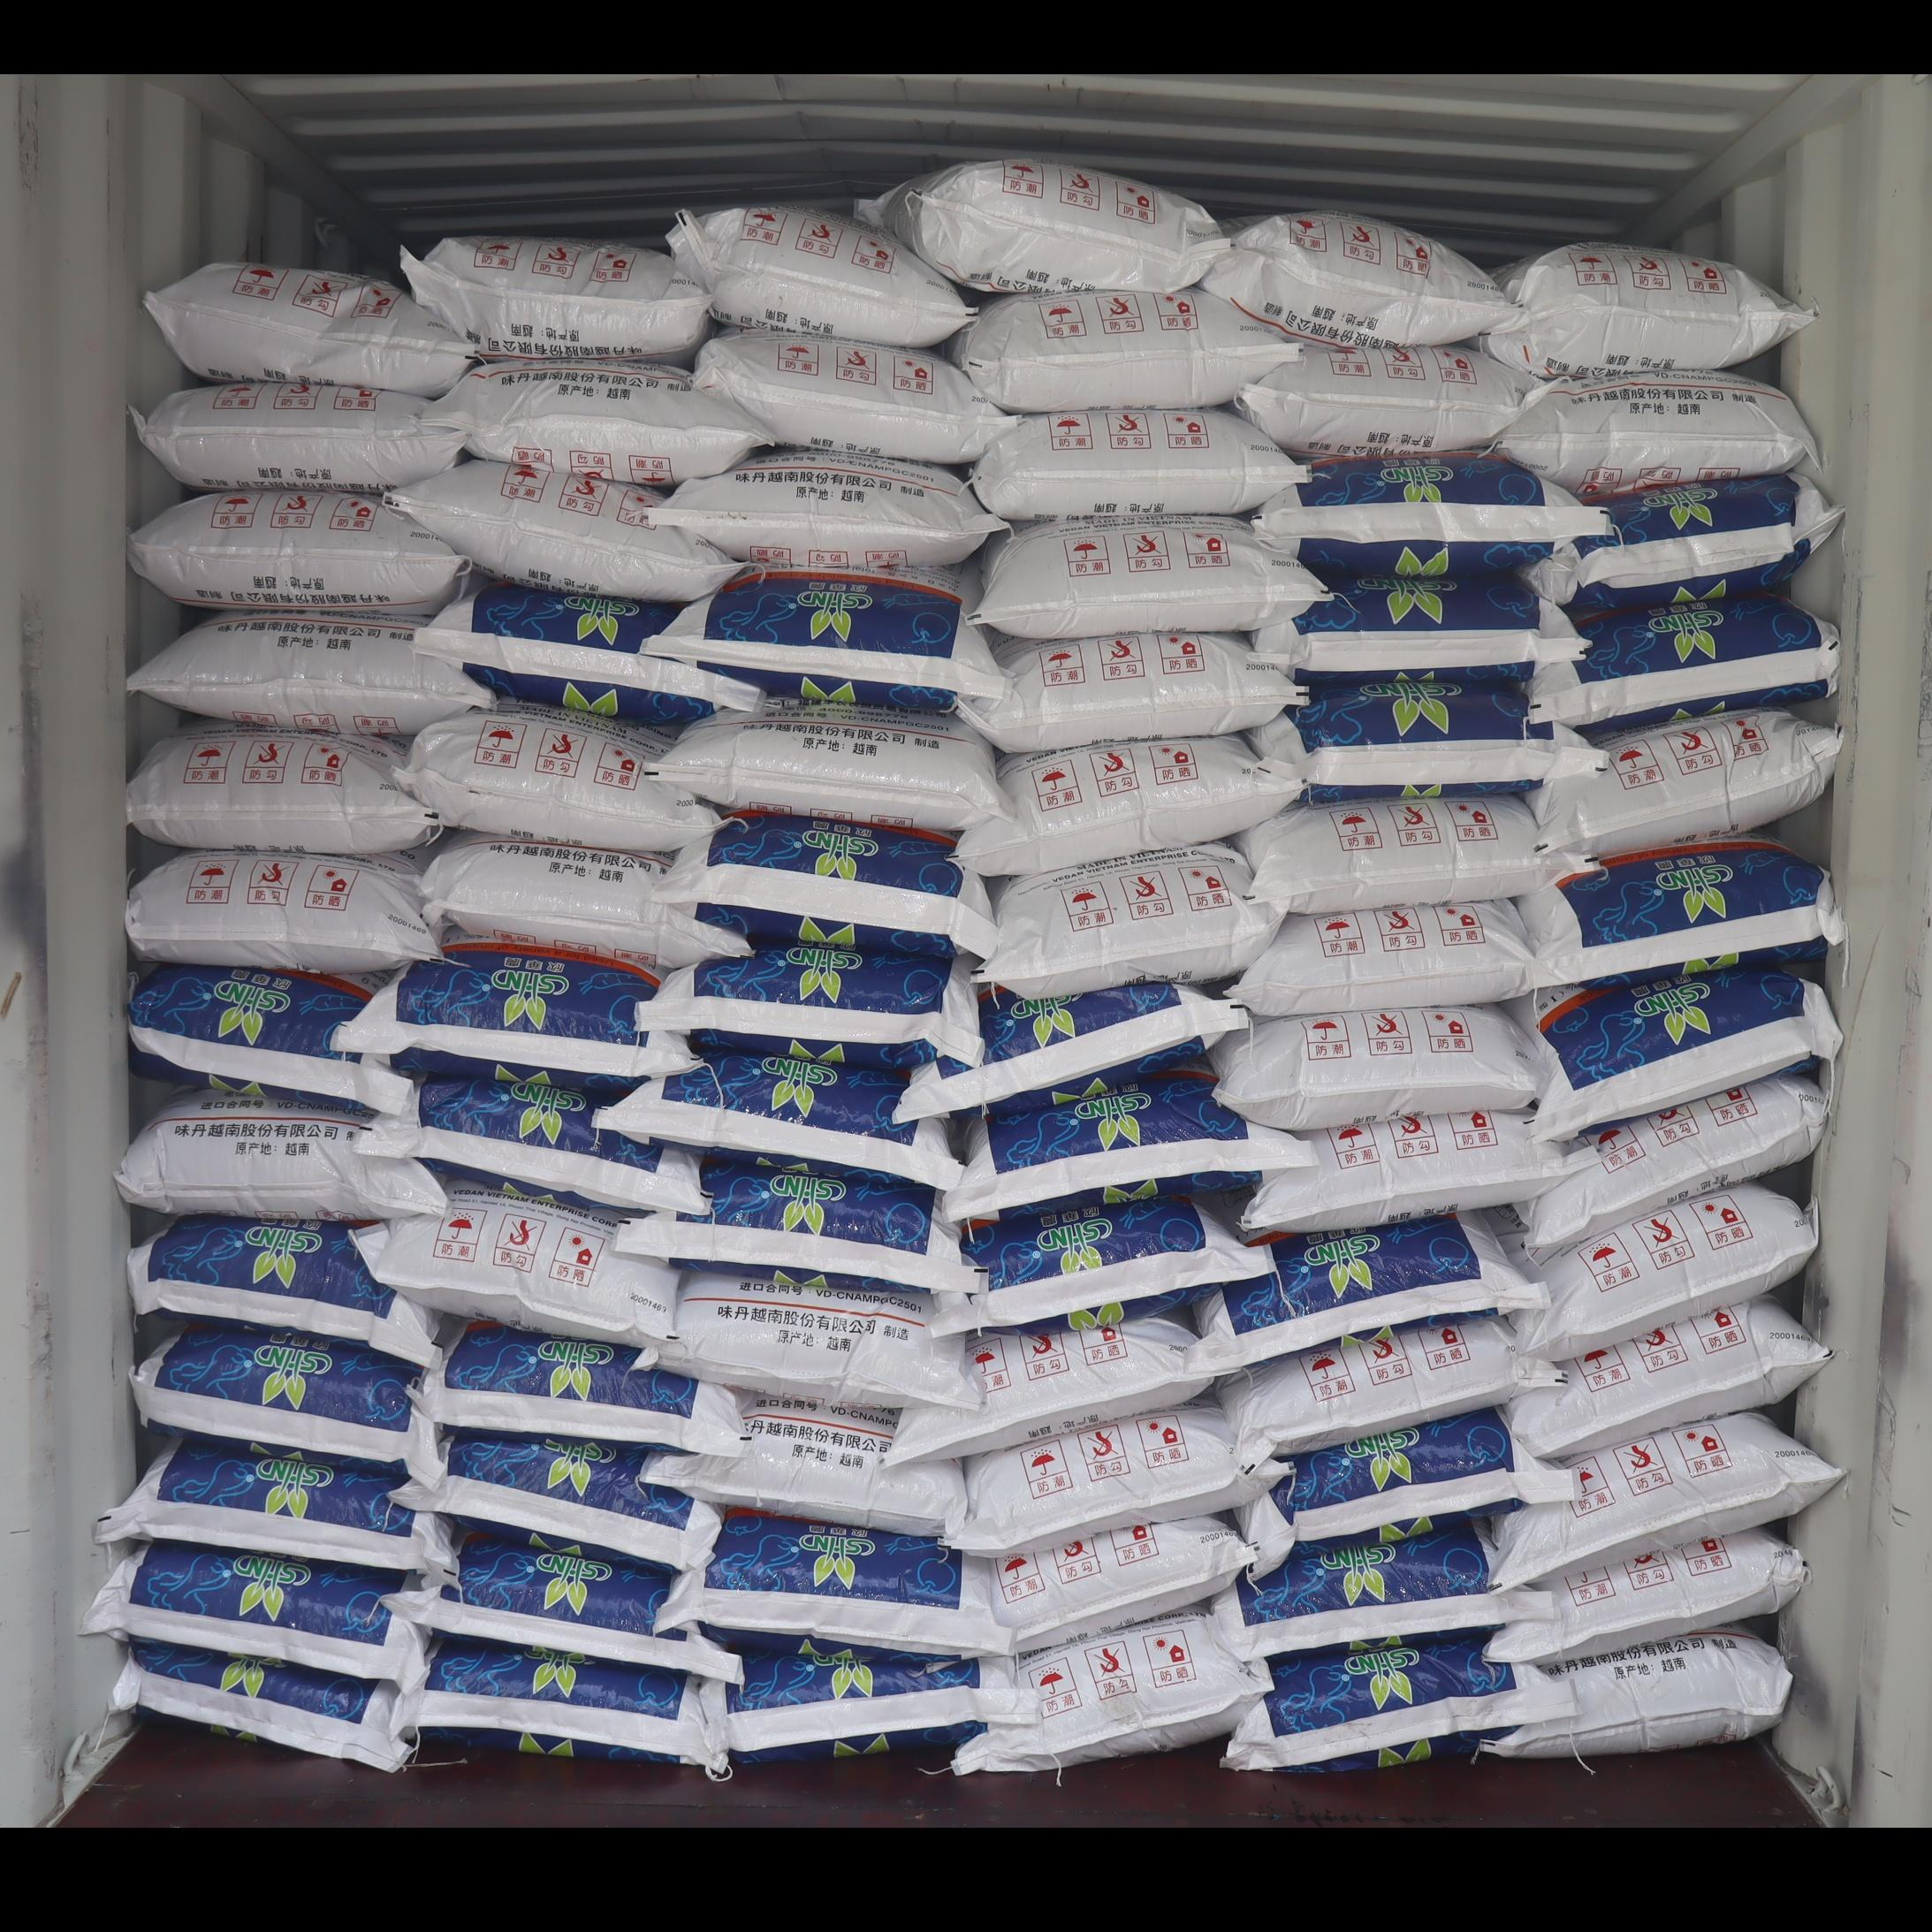sack: (1493, 1412, 1842, 1587), (1187, 1210, 1548, 1375), (1240, 1408, 1580, 1580), (1511, 970, 1842, 1141), (1518, 1072, 1828, 1254), (945, 1072, 1315, 1221), (656, 1509, 1014, 1661), (334, 941, 688, 1093), (1513, 1184, 1817, 1361), (352, 1182, 676, 1345), (396, 1532, 741, 1683), (1214, 1316, 1562, 1465), (950, 1399, 1286, 1553), (651, 810, 996, 959), (1507, 1299, 1829, 1458), (648, 564, 1005, 708), (410, 580, 761, 725), (596, 1053, 964, 1191), (954, 1612, 1265, 1773), (863, 157, 1231, 294), (619, 1155, 980, 1293), (386, 462, 736, 603), (96, 1437, 453, 1575), (1516, 837, 1844, 987), (895, 982, 1247, 1122), (648, 697, 1012, 832), (1253, 453, 1610, 589), (886, 1318, 1212, 1465), (957, 736, 1300, 874), (421, 832, 750, 975), (1532, 708, 1842, 858), (83, 1541, 419, 1679), (402, 704, 717, 851), (363, 1076, 706, 1210), (133, 1325, 435, 1477), (127, 1215, 433, 1366), (1221, 1640, 1576, 1769), (932, 1198, 1265, 1336), (975, 846, 1277, 996), (669, 198, 973, 347), (1214, 1527, 1553, 1660), (973, 513, 1329, 639), (642, 943, 982, 1074), (1527, 474, 1844, 614), (1486, 244, 1815, 379), (1484, 1529, 1808, 1665), (421, 364, 777, 488), (129, 614, 494, 734), (403, 1638, 727, 1773), (419, 1322, 747, 1454), (648, 1398, 966, 1534), (662, 1272, 978, 1408), (1203, 211, 1514, 349), (1251, 676, 1592, 801), (1530, 593, 1840, 731), (405, 1431, 718, 1568), (950, 290, 1299, 412), (115, 1092, 444, 1221), (695, 331, 1016, 464), (127, 964, 412, 1113), (962, 630, 1304, 754), (147, 264, 467, 393), (656, 448, 1005, 566), (1242, 1109, 1583, 1230), (1497, 372, 1819, 499), (1238, 794, 1578, 915), (1212, 1005, 1539, 1129), (127, 488, 462, 609), (127, 725, 437, 853), (113, 1638, 409, 1771), (1483, 1631, 1792, 1757), (402, 234, 708, 359), (126, 849, 437, 971), (970, 407, 1304, 520), (724, 1645, 1035, 1764), (133, 380, 462, 490), (1231, 901, 1541, 1016), (994, 1514, 1254, 1651), (1253, 575, 1583, 681), (1237, 345, 1537, 456)
